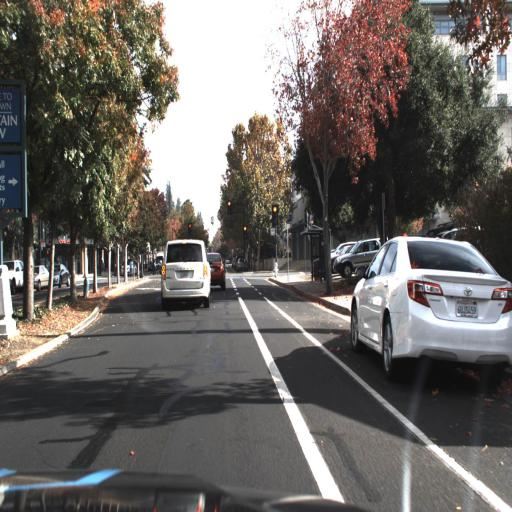car: (349, 235, 511, 394), (157, 234, 213, 313), (333, 236, 390, 281), (329, 236, 382, 282), (49, 259, 76, 294), (0, 256, 25, 293), (207, 250, 227, 294), (29, 259, 53, 294), (48, 260, 72, 292), (29, 263, 50, 291)
trafficLight-Red: (270, 203, 279, 232), (271, 205, 278, 228), (225, 199, 233, 219), (241, 223, 250, 238), (242, 222, 248, 240), (226, 200, 232, 215)
trafficLight-RedLeft: (185, 218, 195, 233), (187, 222, 194, 238)
